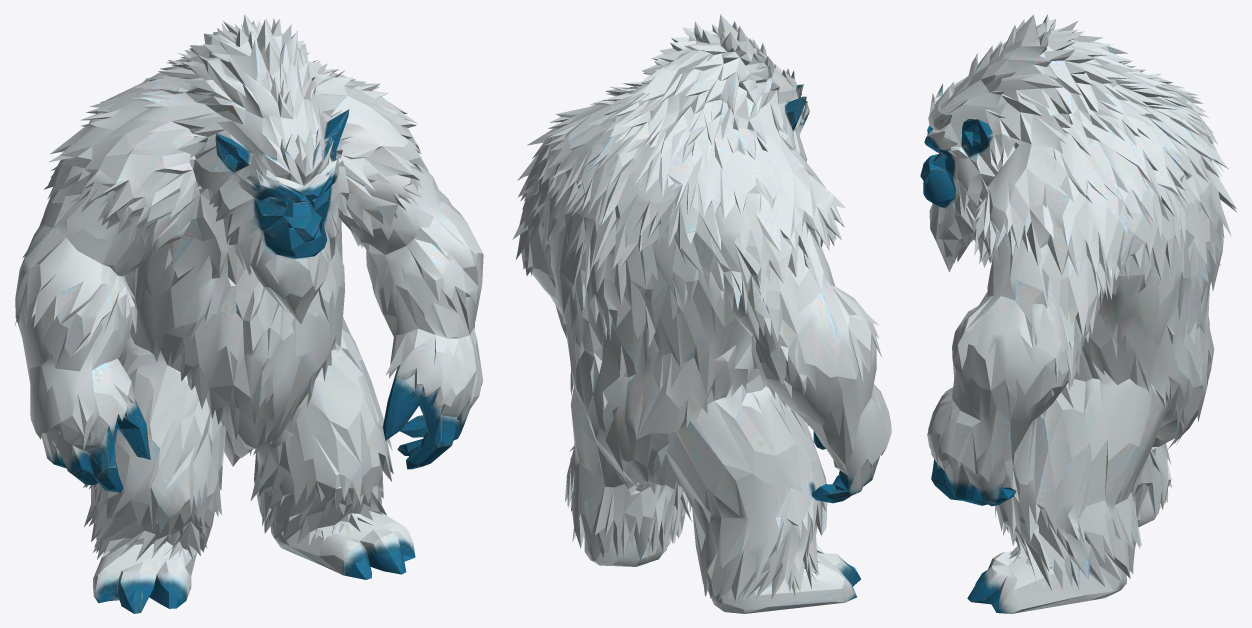
The model's file is yeti.glb.
3 views of the same model, side by side, from view 1: azimuth 30°, elevation 25°; view 2: azimuth 150°, elevation 25°; view 3: azimuth 270°, elevation 25° (orthographic). The views are drawn at different scales.
Bounding box in the file's own units: 1.43 × 1.9 × 1.02.
Materials: 1 (1 with a texture image).
